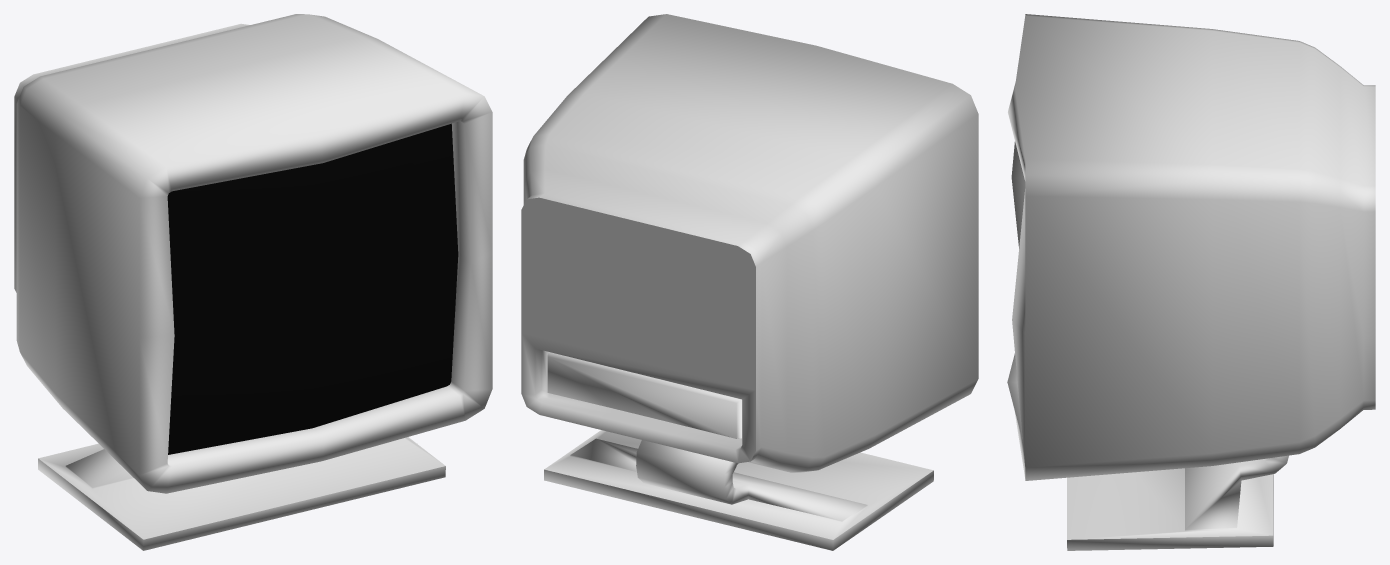
Rendered from Computer without Problems.fbx.
3 views of the same model, side by side, from view 1: azimuth 30°, elevation 25°; view 2: azimuth 150°, elevation 25°; view 3: azimuth 270°, elevation 25° (orthographic). The views are drawn at different scales.
Visible parts, largest first — view 1: Computer; view 2: Computer; view 3: Computer.
Part boxes in pixels (bbox=[...]): Computer: bbox=[14, 14, 492, 550]; Computer: bbox=[521, 14, 978, 550]; Computer: bbox=[1007, 14, 1375, 550].
Size of the model in its own units: 45.08 by 48.76 by 41.59.
1 material, 1 textured.
